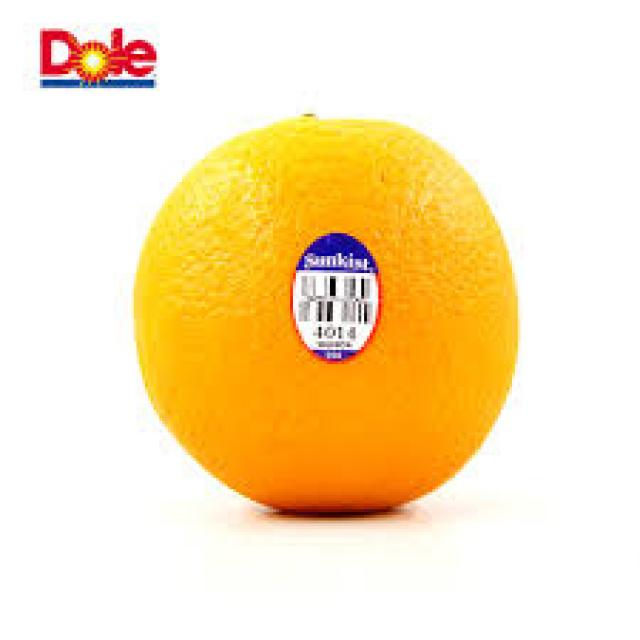organic waste: (131, 108, 515, 512)
